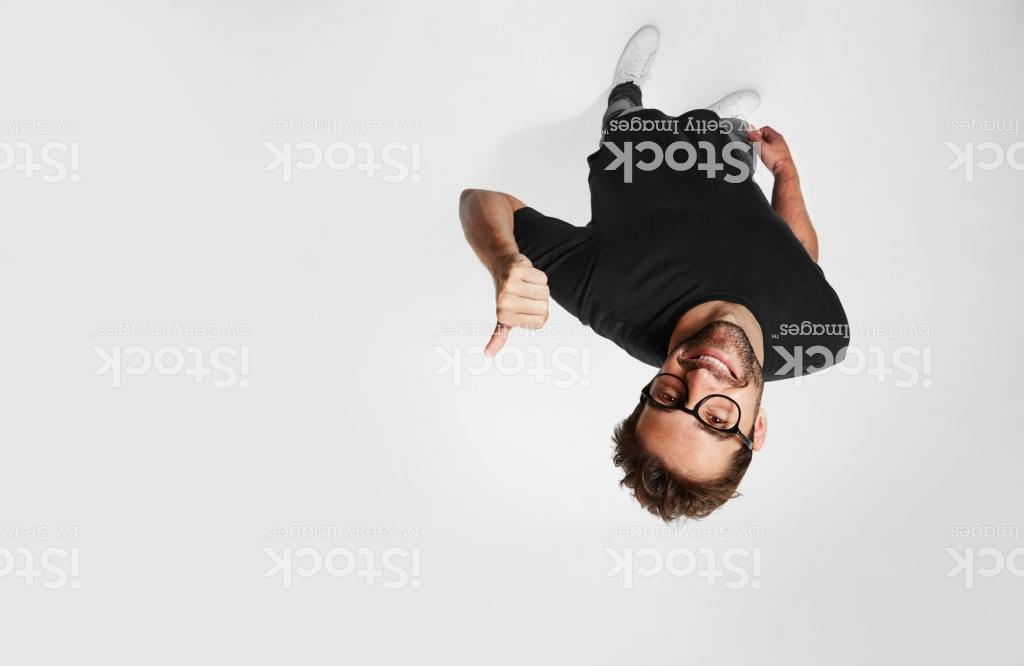thumbsdown: (481, 256, 551, 357)
